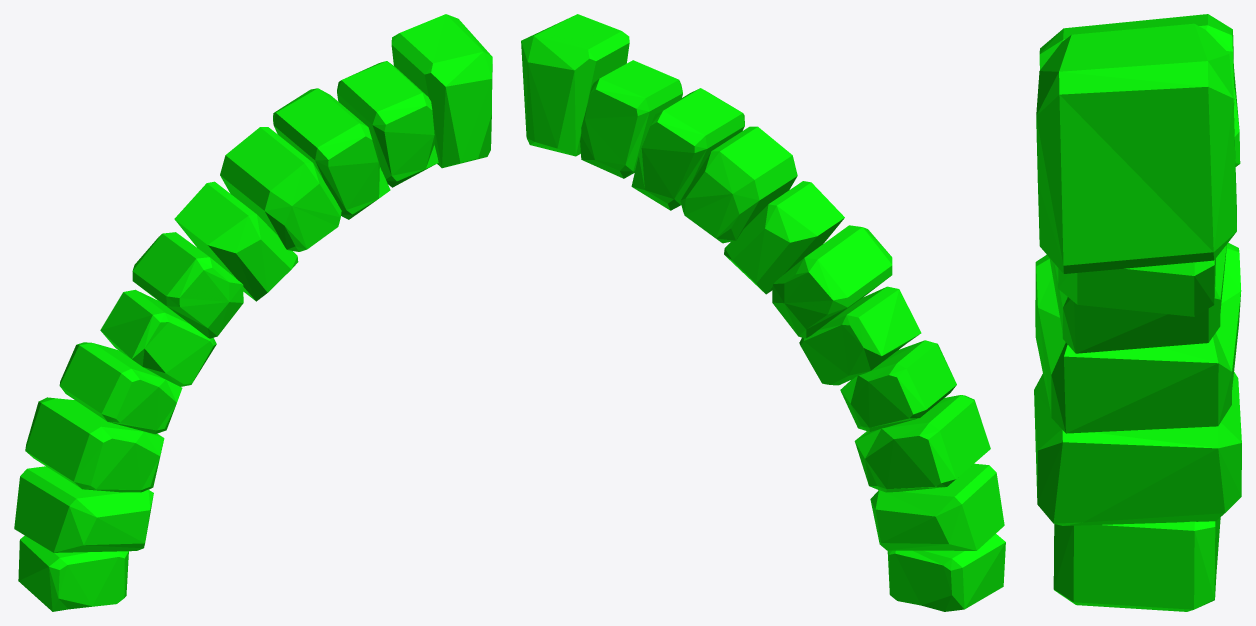
The model's file is SM_Arch_Curve_Half_Stone_Fantasy.fbx.
3 renders of one model, left to right at view 1: azimuth 30°, elevation 25°; view 2: azimuth 150°, elevation 25°; view 3: azimuth 270°, elevation 25°, orthographic. The views are drawn at different scales.
Parts seen in each view (by area): view 1: arch-curve-half-stone-fantasy; view 2: arch-curve-half-stone-fantasy; view 3: arch-curve-half-stone-fantasy.
Boxes of the visible parts, left/top/right/bottom form: arch-curve-half-stone-fantasy: left=14, top=14, right=492, bottom=611; arch-curve-half-stone-fantasy: left=521, top=14, right=1005, bottom=611; arch-curve-half-stone-fantasy: left=1034, top=14, right=1241, bottom=611.
Size of the model in its own units: 2.3 by 2.33 by 0.5031.
